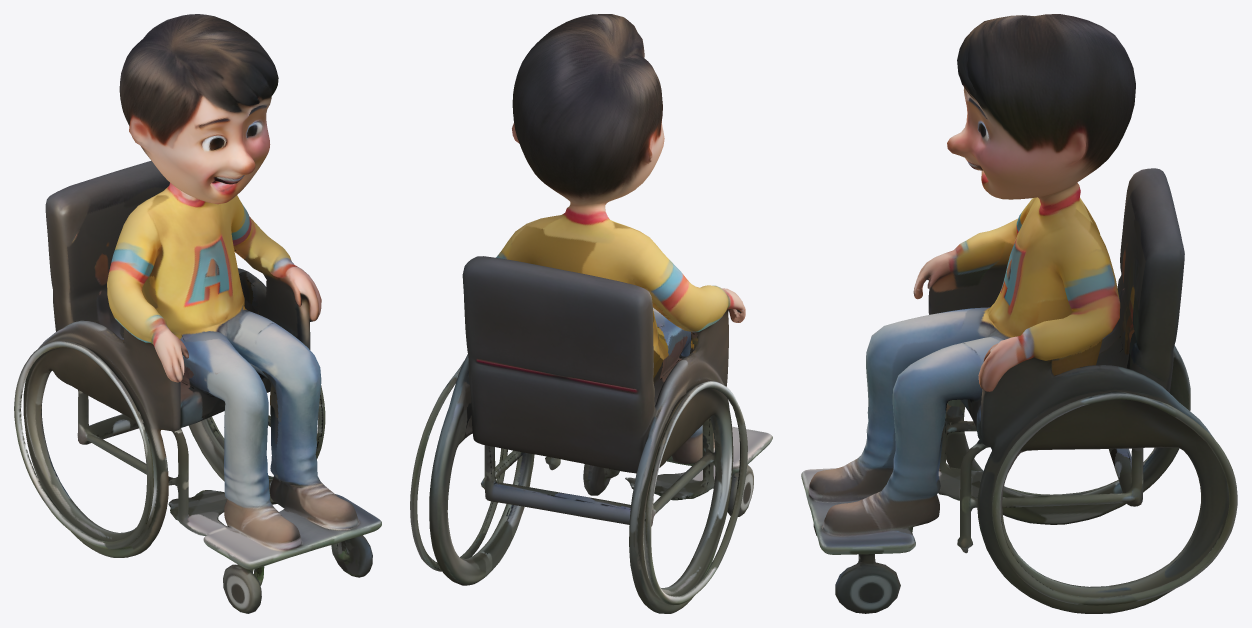
Rendered from niñosillaruedas.glb.
The picture shows the model from 3 angles, left to right: view 1: azimuth 30°, elevation 25°; view 2: azimuth 150°, elevation 25°; view 3: azimuth 270°, elevation 25°; orthographic projection. The views are drawn at different scales.
Visible parts, largest first — view 1: model; view 2: model; view 3: model.
Part boxes in pixels (x1=…): model: x1=14, y1=14, x2=381, y2=613; model: x1=410, y1=14, x2=772, y2=613; model: x1=801, y1=14, x2=1237, y2=613.
Size of the model in its own units: 0.8714 by 1.89 by 1.34.
Materials: 1 (1 with a texture image).
